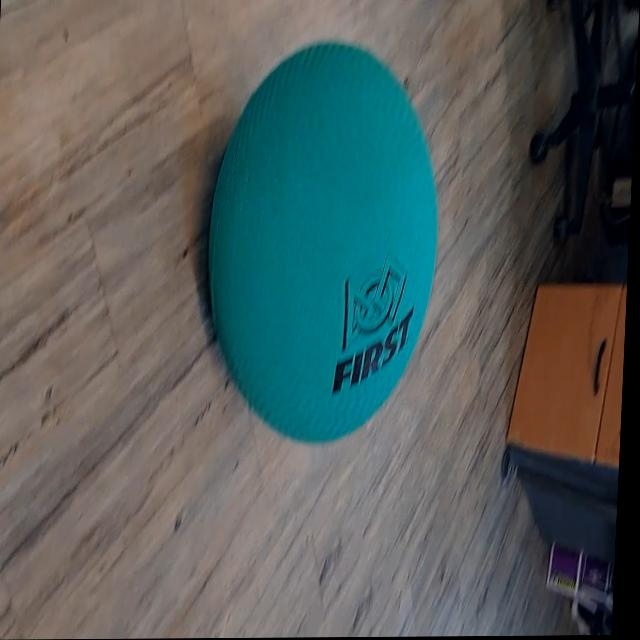ALGAE: (197, 39, 447, 446)
